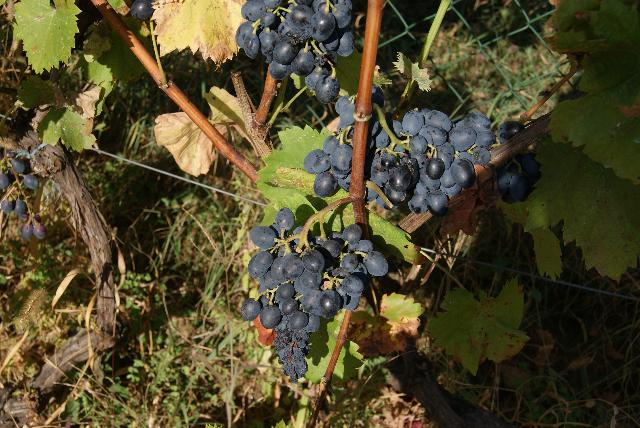grapes: (241, 208, 389, 382), (364, 109, 525, 216), (235, 0, 355, 102), (304, 96, 355, 198), (499, 152, 541, 202)
